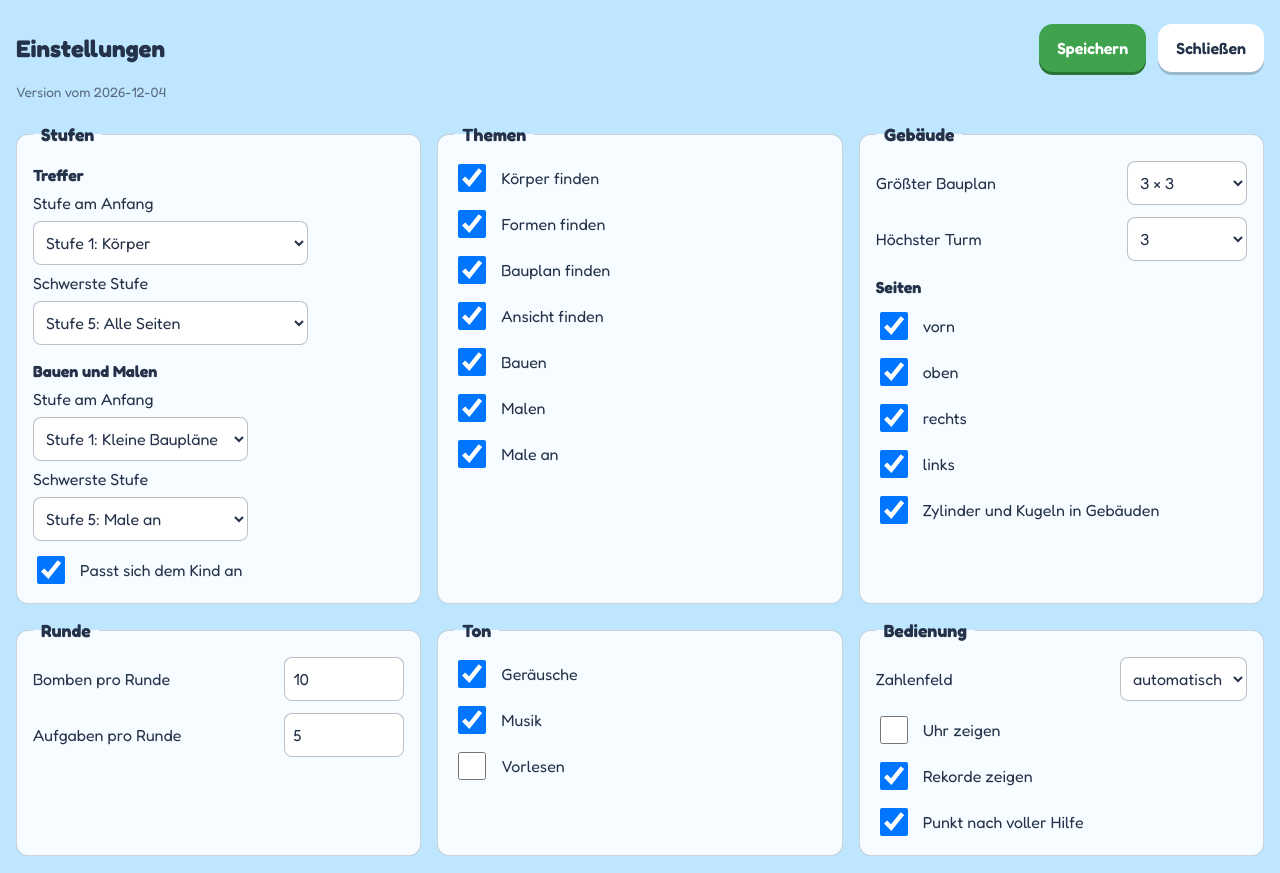
Test case: SettingsPage (T060, FR-051) › saves start level 3 for "Treffer" and hands the settings to the app
This screenshot has width=1280, height=873.
Select "Stufe 3: Baupläne finden" in the dropdown labelled "Stufe am Anfang" below "Treffer" at (170, 243), box [33,221,308,265]
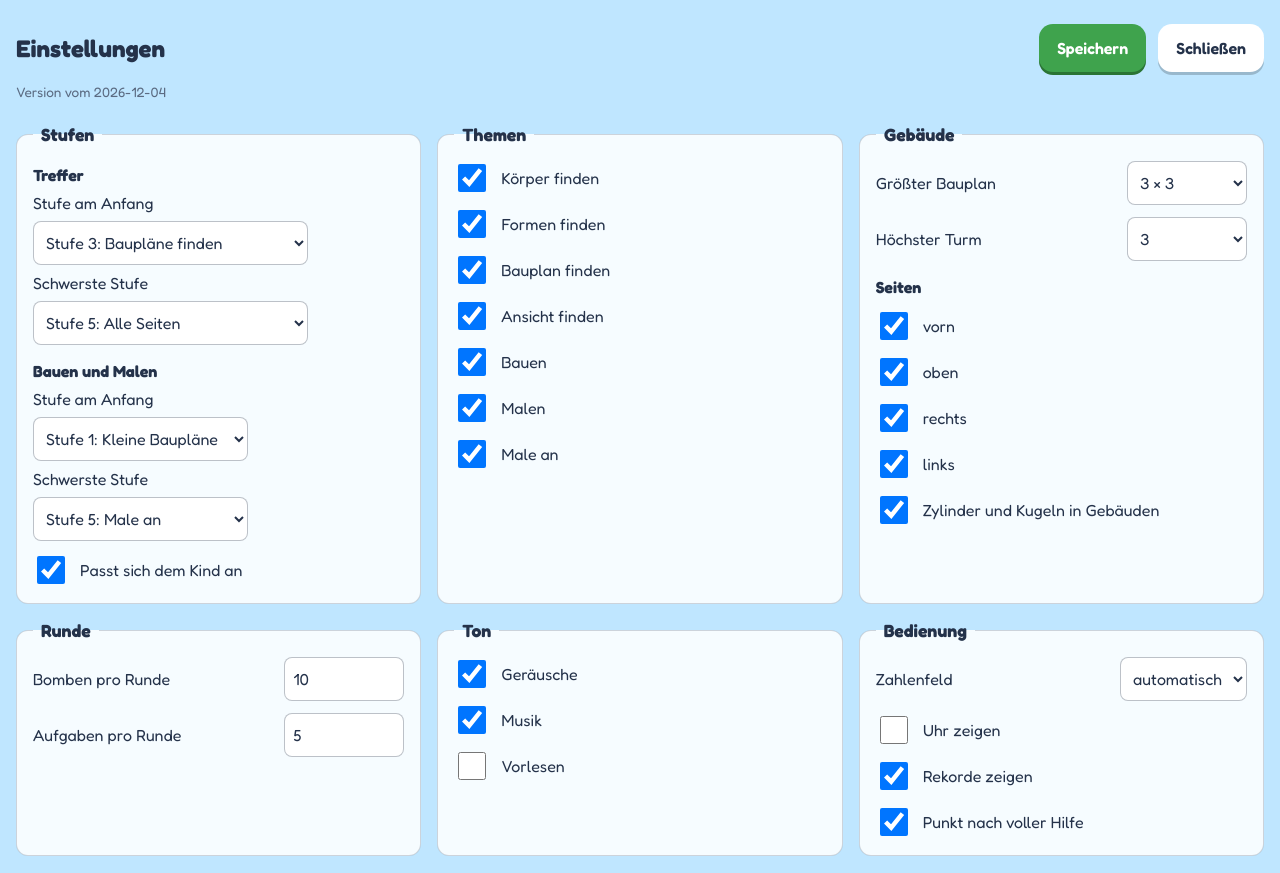
Click the button "Speichern" at (1093, 48), box [1039,24,1146,72]
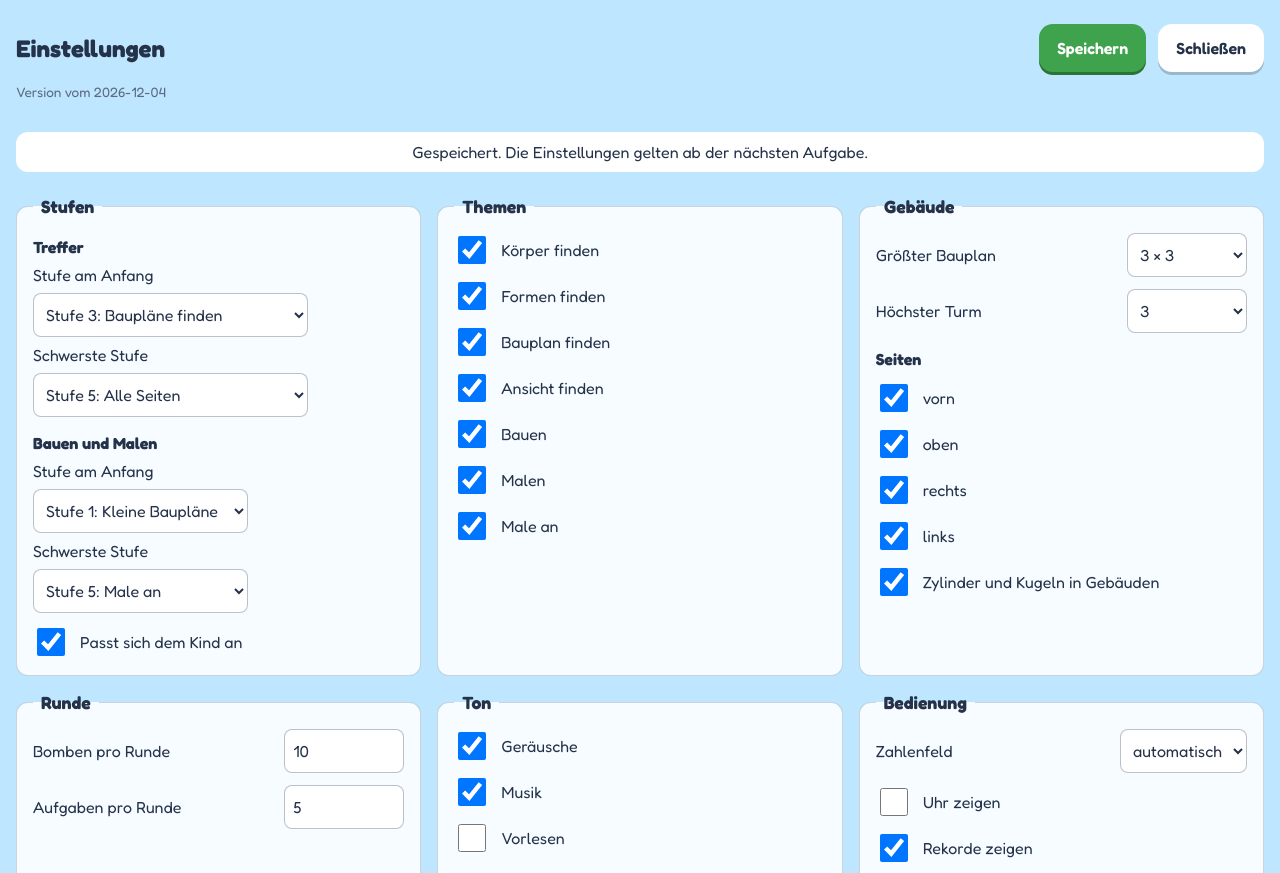
Expected: the text "Gespeichert. Die Einstellungen gelten ab der nächsten Aufgabe." is shown, [16,132,1264,172]
